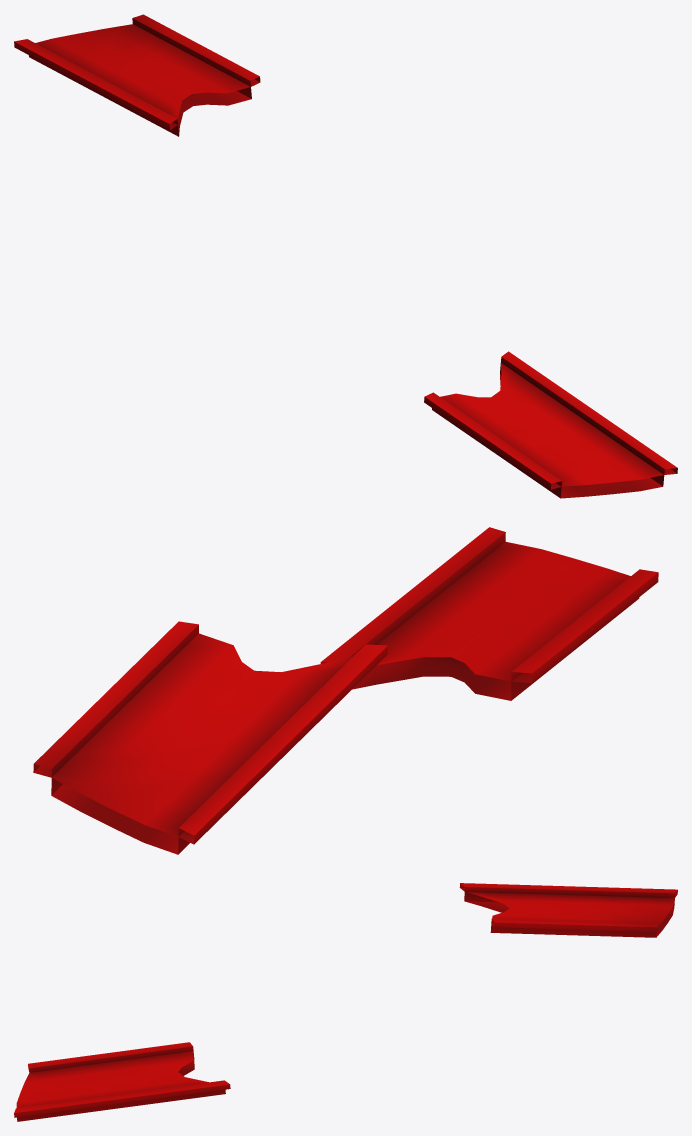
The model's file is BridgeBroken.obj.
3 views of the same model, one above another, from view 1: azimuth 30°, elevation 25°; view 2: azimuth 150°, elevation 25°; view 3: azimuth 270°, elevation 25° (orthographic). The views are drawn at different scales.
Visible parts, largest first — view 1: BridgeBroken; view 2: BridgeBroken; view 3: BridgeBroken.
Boxes of the visible parts, left/top/right/bottom form: BridgeBroken: left=14, top=14, right=677, bottom=498; BridgeBroken: left=33, top=527, right=658, bottom=854; BridgeBroken: left=14, top=883, right=677, bottom=1121.
Size of the model in its own units: 10.32 by 8.71 by 32.19.
